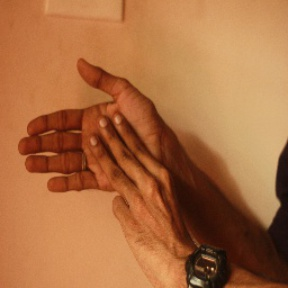M: (15, 57, 179, 212)
